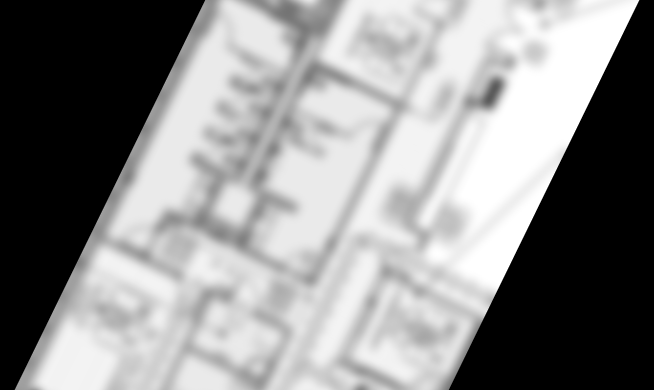door: (421, 134, 462, 203), (376, 233, 425, 280), (278, 240, 324, 286), (346, 108, 389, 156), (166, 274, 210, 320), (118, 214, 162, 259), (227, 273, 269, 317), (202, 9, 242, 50), (317, 356, 364, 390), (403, 360, 452, 390), (304, 123, 337, 154), (219, 81, 250, 113), (194, 133, 225, 164), (207, 107, 238, 138), (232, 55, 262, 86), (219, 374, 264, 390)
double door: (483, 0, 542, 62), (409, 0, 471, 29)
window: (351, 295, 383, 342)
